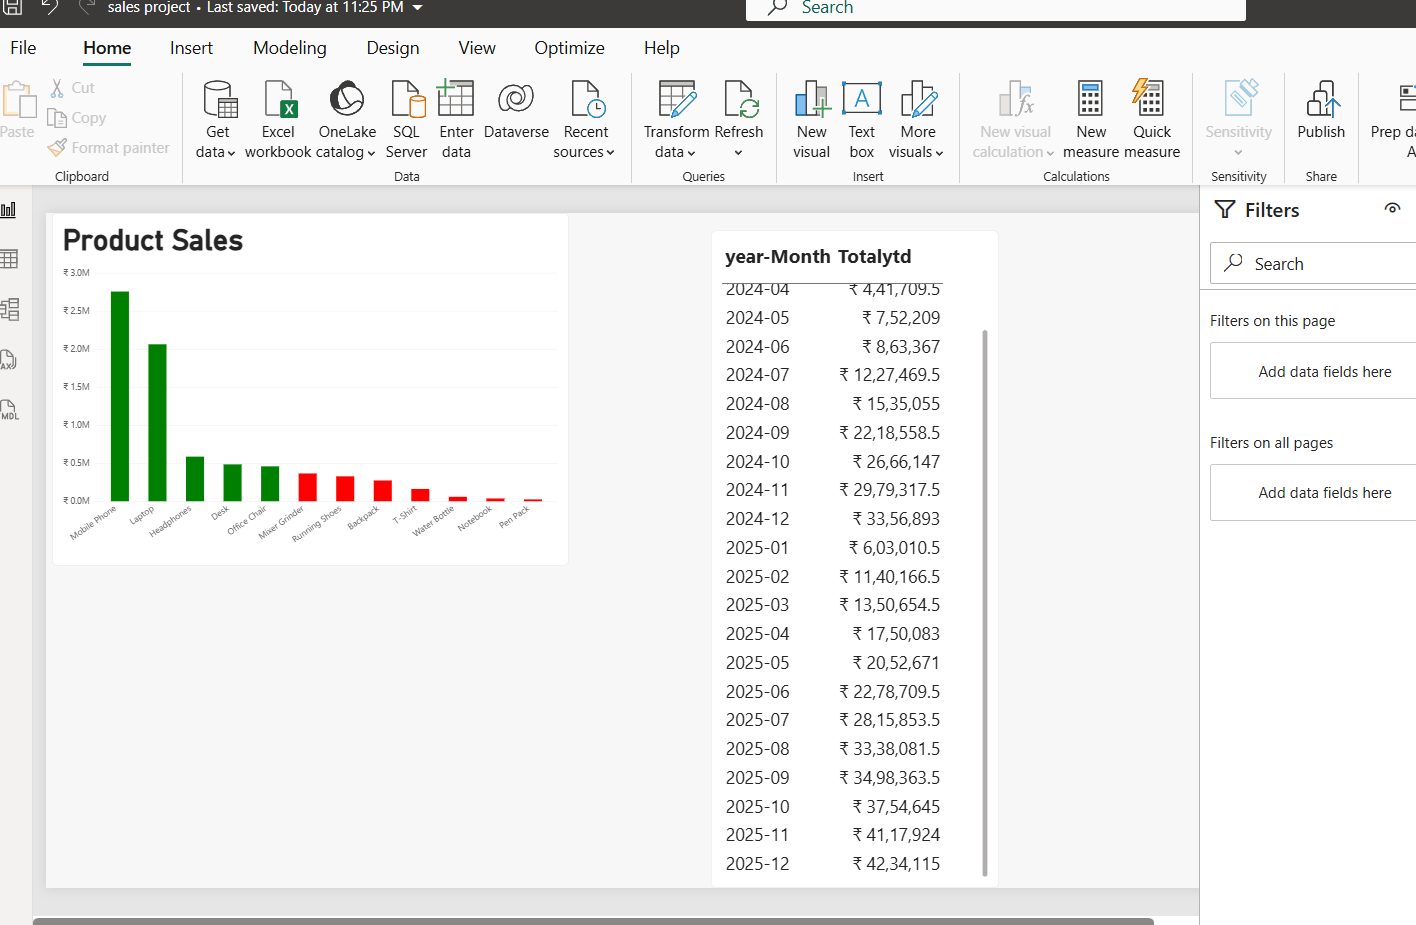

The dashboard page shown, as its layout file describes it:
{"tool":"powerbi","page":{"name":"Page 3","canvas":[1920,1080],"ordinal":2},"visuals":[{"type":"clusteredColumnChart","title":"Product Sales","fields":{"Y":["Sum(sales.Sales)"],"Category":["sales.Product"]},"box":[10,0,826,564],"z":0},{"type":"tableEx","fields":{"Values":["Date Table.year-Month","Date Table.Totalytd"]},"box":[1064,28,460,1052],"z":1}]}

Visuals, with their boxes on the page's 1920x1080 design canvas (x1, y1, x2, y2). These are canvas units, not pixel positions in the 1416x925 screenshot, which may show the page scaled, cropped or inside an application window:
"Product Sales" clusteredColumnChart: box(10, 0, 836, 564)
tableEx - Date Table.year-Month x Date Table.Totalytd: box(1064, 28, 1524, 1080)
